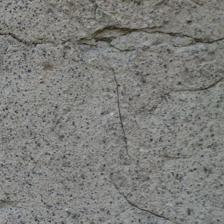Crack: (70, 12, 154, 124), (0, 54, 83, 109), (192, 0, 224, 66), (9, 76, 51, 110)
